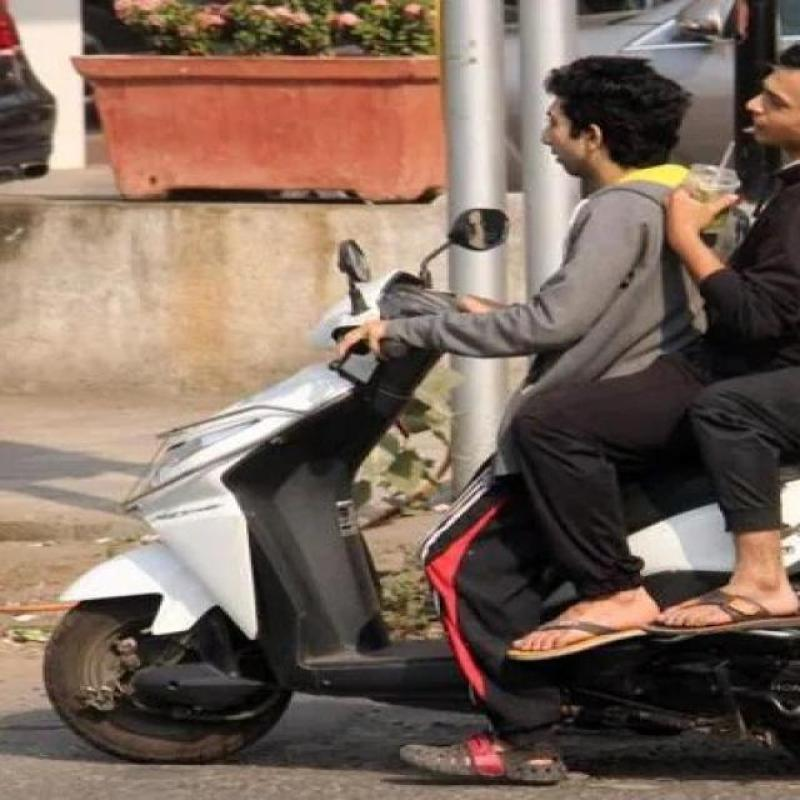nohelmet: (525, 68, 651, 188), (709, 49, 800, 150)
